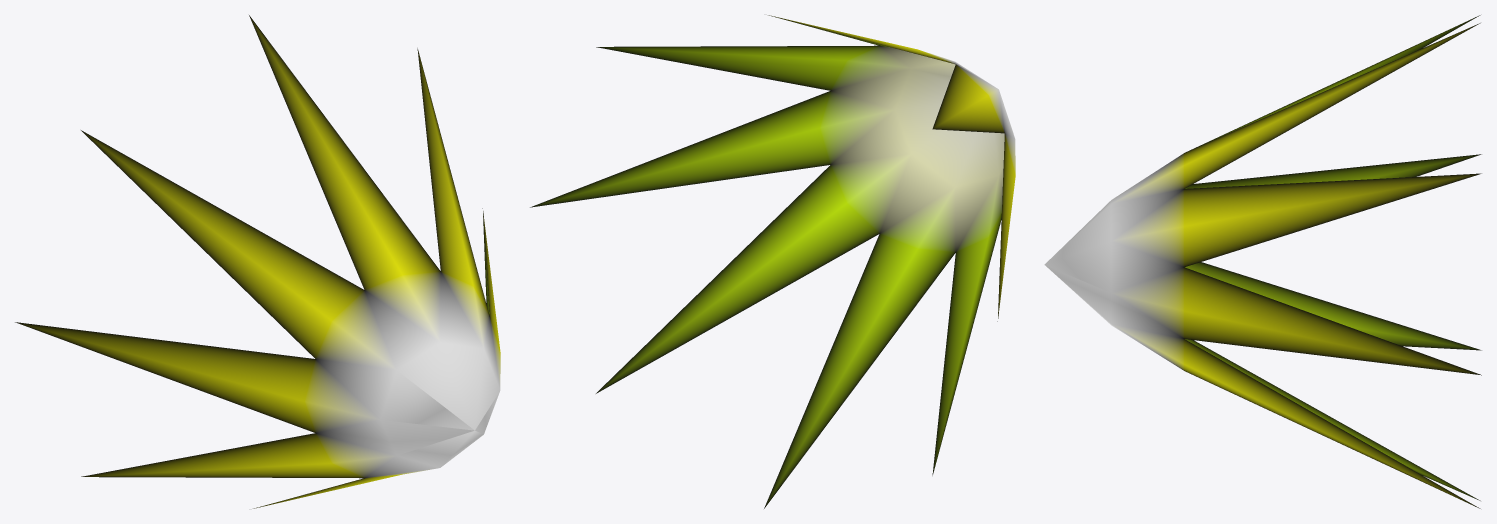
File: dkick.glb
3 renders of one model, left to right at view 1: azimuth 30°, elevation 25°; view 2: azimuth 150°, elevation 25°; view 3: azimuth 270°, elevation 25°, orthographic. The views are drawn at different scales.
Parts seen in each view (by area): view 1: object_000; view 2: object_000; view 3: object_000.
Boxes of the visible parts, bbox=[...] form: object_000: bbox=[15, 15, 500, 508]; object_000: bbox=[530, 15, 1015, 508]; object_000: bbox=[1044, 15, 1481, 508].
Size of the model in its own units: 86 by 87 by 72.
